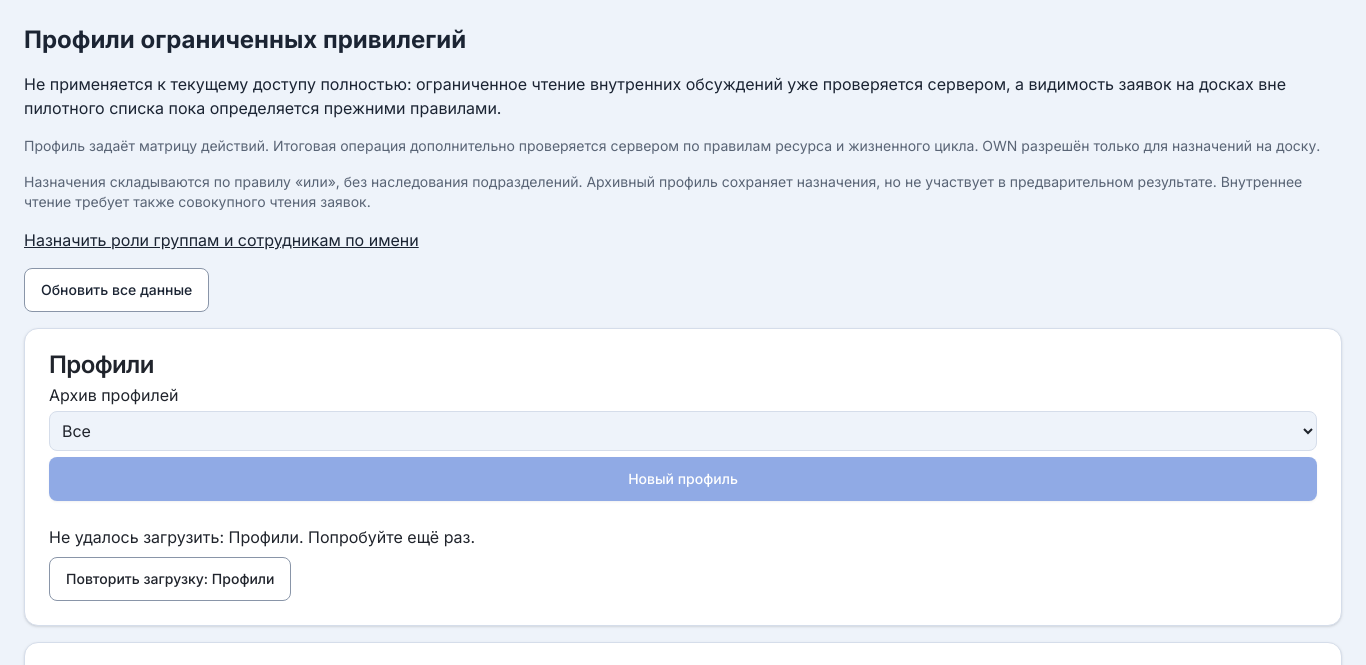
privilege administration reads › initial failure is distinct from successful empty list
The width and height of the screenshot is (1366, 665).
Expected: the message "Не удалось загрузить: Профили. Попробуйте ещё раз. Повторить загрузку: Профили" is shown, 49,527 -> 475,601
Expected: the text "Ничего не найдено." is not shown
Click the button "Повторить загрузку: Профили" at (170, 579), box 49,557 -> 292,601
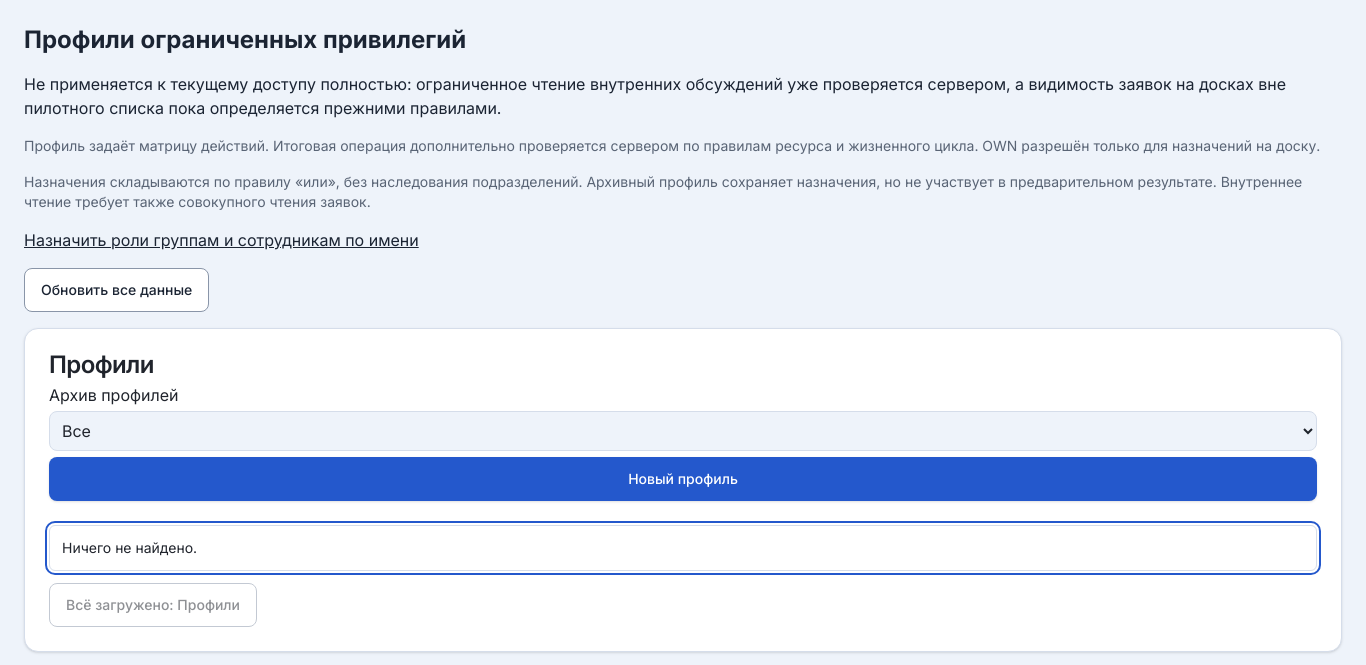
Expected: the text "Ничего не найдено." is shown, 62,539 -> 197,556
